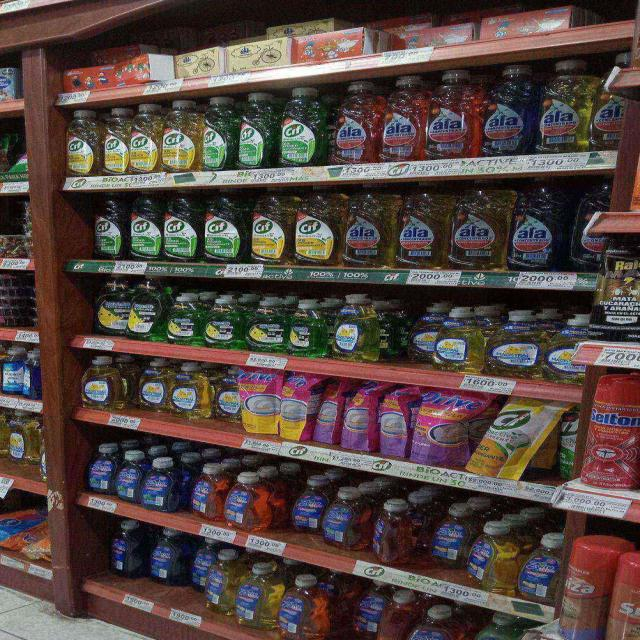ala_conc_amarillo: (396, 187, 448, 269), (341, 188, 394, 268)
ala_conc_azul: (535, 59, 592, 154), (510, 182, 566, 272), (482, 64, 532, 156)
ala_conc_rojo: (426, 70, 479, 160), (329, 80, 379, 164), (380, 75, 426, 162)
cif_conc_bot_amarilla: (292, 189, 339, 266), (248, 188, 290, 264), (161, 100, 196, 172), (64, 109, 98, 176), (128, 103, 159, 174), (99, 106, 128, 174)
cif_conc_botella_verde: (278, 86, 326, 167), (202, 192, 246, 263), (235, 91, 275, 169), (199, 96, 234, 171), (163, 192, 200, 262), (128, 192, 162, 261), (92, 193, 126, 260)
magistral_con_amarillo: (437, 306, 483, 374), (170, 362, 212, 418), (133, 360, 168, 412), (214, 368, 242, 424)
